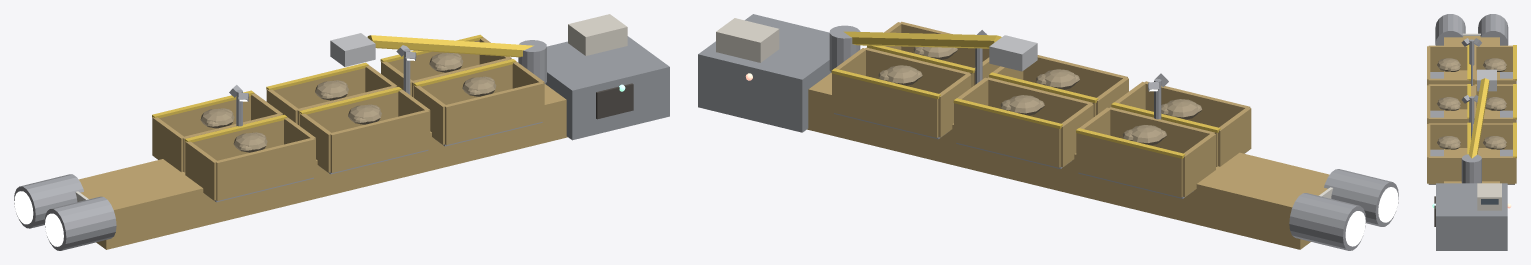
The model's file is ore_barge.glb.
The picture shows the model from 3 angles, left to right: view 1: azimuth 30°, elevation 25°; view 2: azimuth 150°, elevation 25°; view 3: azimuth 270°, elevation 25°; orthographic projection. The views are drawn at different scales.
Parts seen in each view (by area): view 1: brg_spine, brg_bow, brg_basket11_wall_s, brg_basket21_wall_s, brg_basket01_wall_s, brg_drive_s_shroud, brg_boom_jib, brg_cab_pod, brg_drive_p_shroud, brg_basket11_wall_p, brg_basket10_wall_p, brg_basket01_wall_p (+31 smaller); view 2: brg_spine, brg_bow, brg_basket00_wall_p, brg_basket20_wall_p, brg_basket10_wall_p, brg_drive_p_shroud, brg_cab_pod, brg_drive_s_shroud, brg_boom_jib, brg_basket10_wall_s, brg_basket20_wall_s, brg_basket00_wall_s (+27 smaller); view 3: brg_bow, brg_spine, brg_basket01_wall_f, brg_basket00_wall_f, brg_basket21_wall_a, brg_basket01_wall_a, brg_boom_jib, brg_basket11_wall_a, brg_basket20_wall_a, brg_drive_s_shroud, brg_drive_p_shroud, brg_cab_pod (+40 smaller).
Part boxes in pixels (<box>): brg_spine: <box>79,84,567,249</box>; brg_bow: <box>545,36,669,140</box>; brg_basket11_wall_s: <box>330,110,429,172</box>; brg_basket21_wall_s: <box>215,137,314,200</box>; brg_basket01_wall_s: <box>444,82,543,145</box>; brg_drive_s_shroud: <box>44,196,116,250</box>; brg_boom_jib: <box>367,35,533,57</box>; brg_cab_pod: <box>568,14,627,55</box>; brg_drive_p_shroud: <box>14,174,83,228</box>; brg_basket11_wall_p: <box>307,92,398,132</box>; brg_basket10_wall_p: <box>274,68,365,108</box>; brg_basket01_wall_p: <box>421,64,512,104</box>; brg_spine: <box>807,72,1329,249</box>; brg_bow: <box>698,14,830,132</box>; brg_basket00_wall_p: <box>832,73,938,137</box>; brg_basket20_wall_p: <box>1077,133,1182,197</box>; brg_basket10_wall_p: <box>955,103,1060,167</box>; brg_drive_p_shroud: <box>1289,193,1365,250</box>; brg_cab_pod: <box>716,18,779,62</box>; brg_drive_s_shroud: <box>1324,169,1398,226</box>; brg_boom_jib: <box>843,31,1001,48</box>; brg_basket10_wall_s: <box>987,77,1092,123</box>; brg_basket20_wall_s: <box>1108,107,1214,153</box>; brg_basket00_wall_s: <box>865,47,970,93</box>; brg_bow: <box>1436,183,1507,250</box>; brg_spine: <box>1444,36,1499,183</box>; brg_basket01_wall_f: <box>1428,156,1462,184</box>; brg_basket00_wall_f: <box>1481,156,1514,184</box>; brg_basket21_wall_a: <box>1428,45,1467,71</box>; brg_basket01_wall_a: <box>1428,123,1467,149</box>; brg_boom_jib: <box>1468,78,1489,158</box>; brg_basket11_wall_a: <box>1428,84,1467,110</box>; brg_basket20_wall_a: <box>1474,45,1512,71</box>; brg_drive_s_shroud: <box>1435,14,1465,45</box>; brg_drive_p_shroud: <box>1478,14,1508,45</box>; brg_cab_pod: <box>1477,183,1501,210</box>.
Size of the model in its own units: 43.44 by 8.31 by 8.02.
